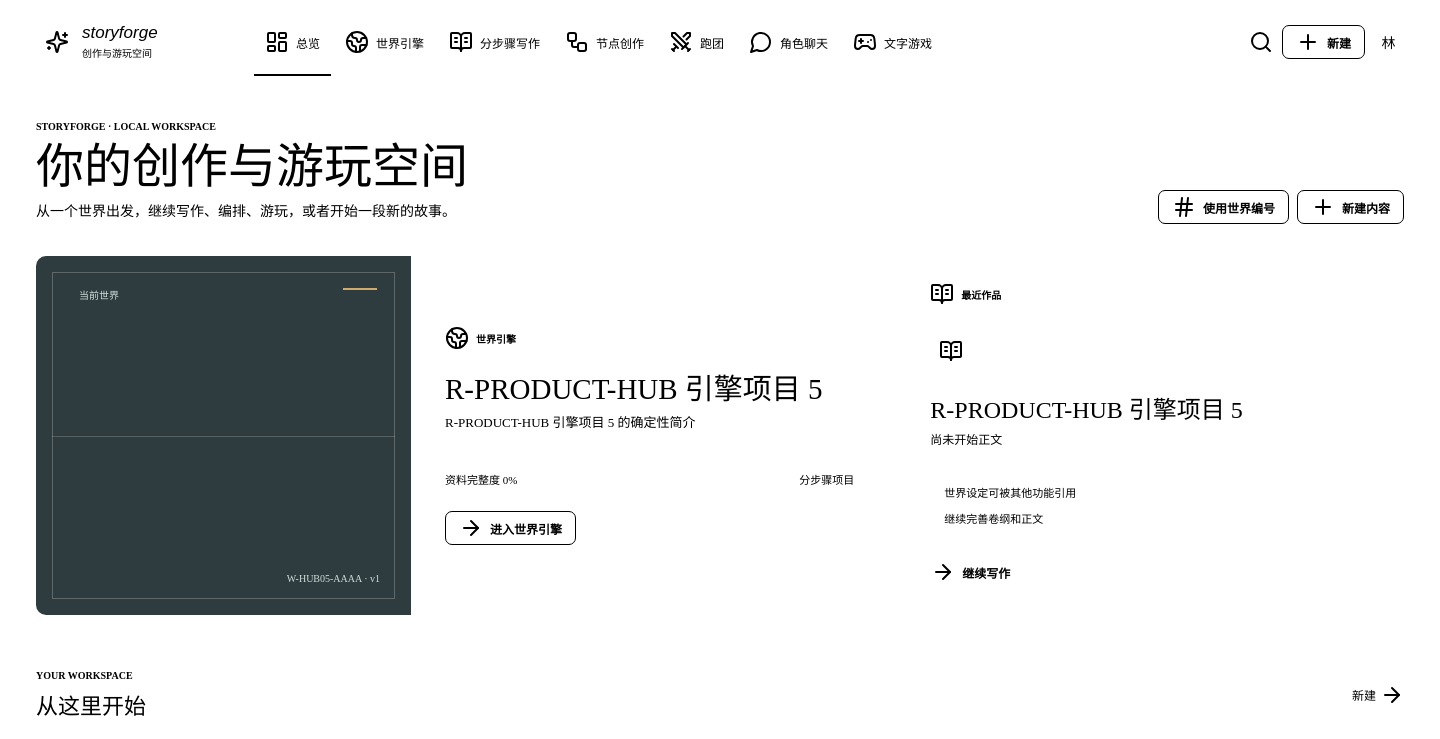
Test: R-PRODUCT-HUB · 世界引擎公共流（enableMultiWorld=false 分步骤项目） › #world-engine-editor 渲染真实工作台契约且不回退到 WorldGroupOverview
Click the button with test id "product-tab-worlds" at (384,42), box [334,8,435,76]
(page scrolled)
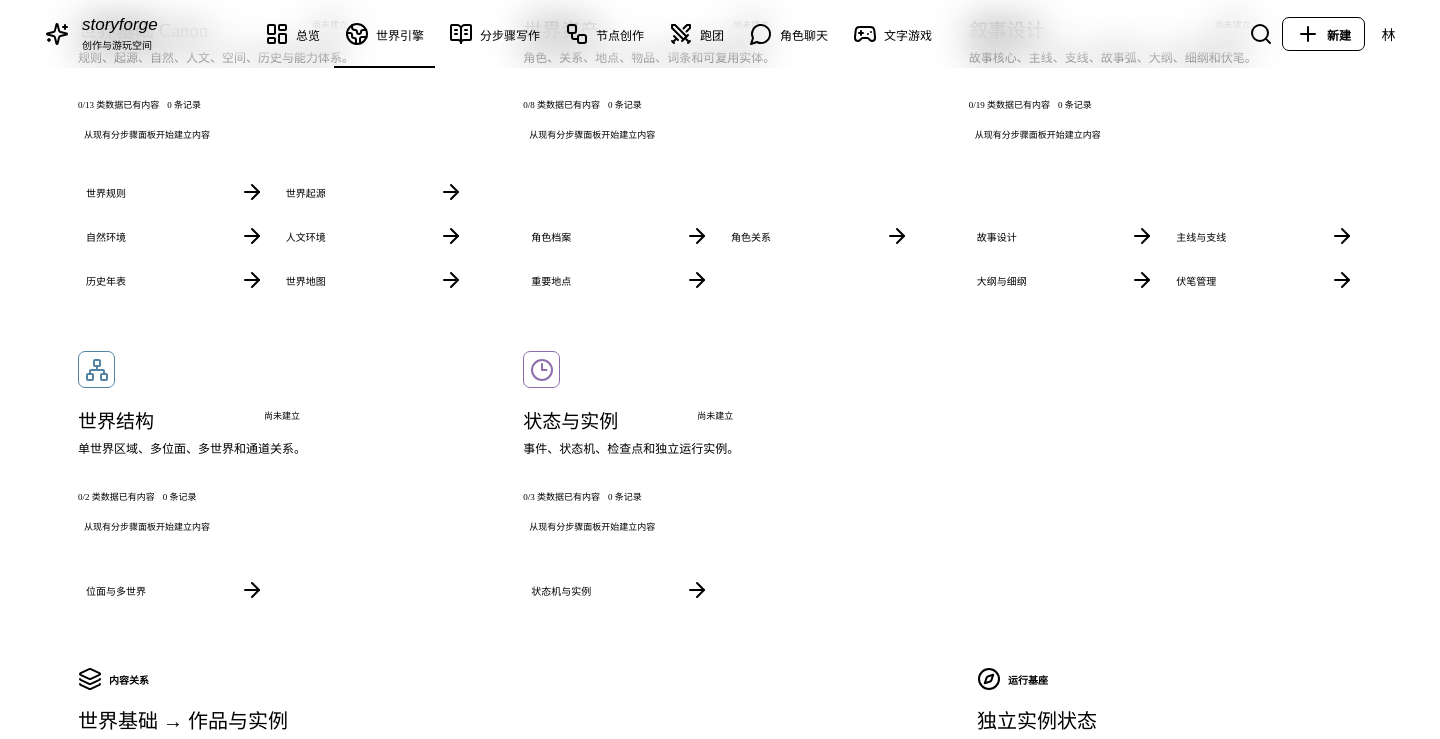
Now the element with class "sf-world-engine-workspace" shows "世界基础 Canon", box [78,20,208,41]
Now the element with class "sf-world-engine-workspace" shows "世界资产", box [523,20,599,41]
Now the element with class "sf-world-engine-workspace" shows "叙事设计", box [969,20,1045,41]
